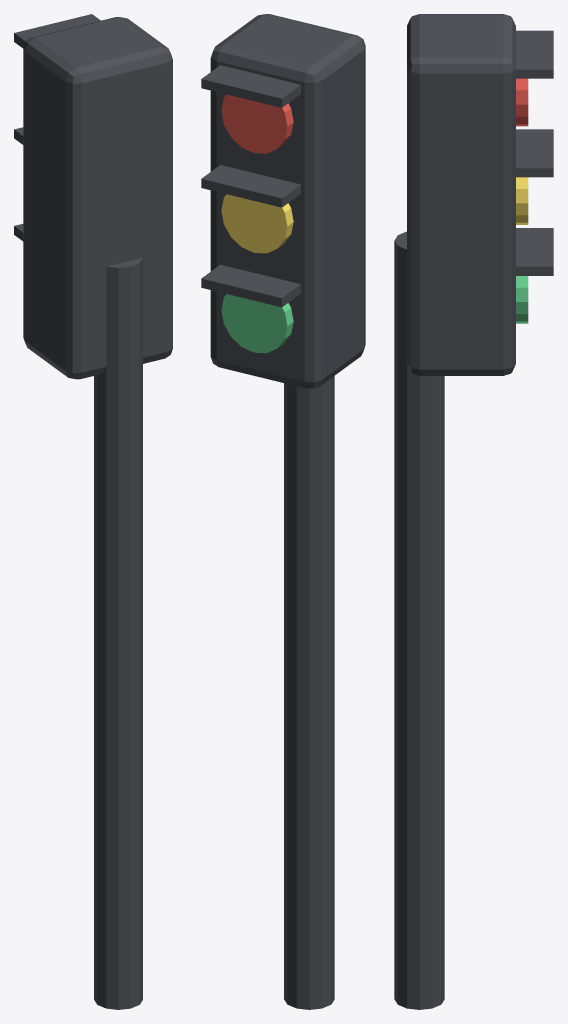
Rendered from TrafficLight.fbx.
3 views of the same model, side by side, from view 1: azimuth 30°, elevation 25°; view 2: azimuth 150°, elevation 25°; view 3: azimuth 270°, elevation 25° (orthographic). The views are drawn at different scales.
Parts seen in each view (by area): view 1: Dark.003; view 2: Dark.003, Yellow, Accent, Green; view 3: Dark.003, Accent, Green, Yellow.
Boxes of the visible parts, x1,y1,x2,y2 form: Dark.003: (14,14,172,1009); Dark.003: (201,14,365,1009); Yellow: (221,194,293,253); Accent: (221,94,293,153); Green: (221,294,293,353); Dark.003: (394,14,553,1009); Accent: (516,78,528,126); Green: (516,276,528,323); Yellow: (516,177,528,224).
Size of the model in its own units: 150 by 1270 by 190.
